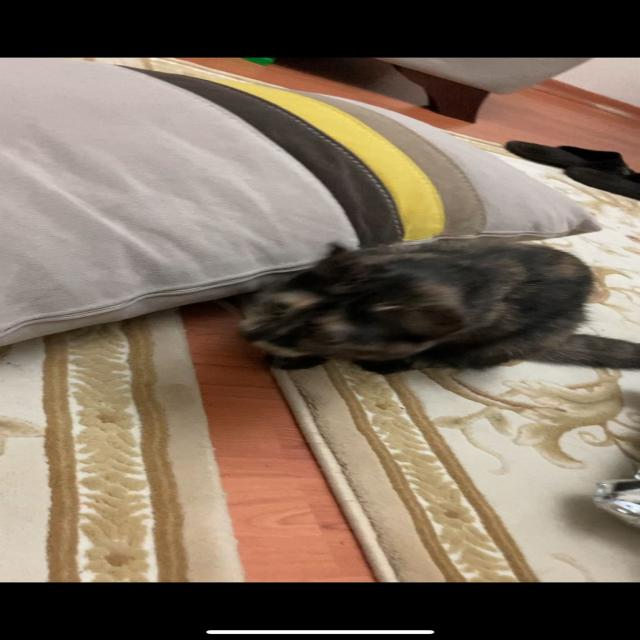authorized: (232, 240, 639, 376)
